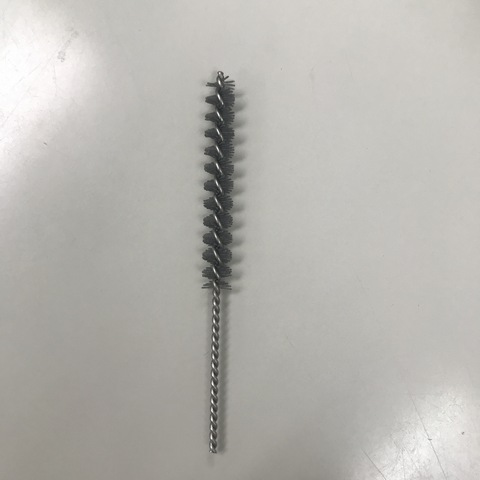Twist Brush-A: (200, 67, 239, 458)
